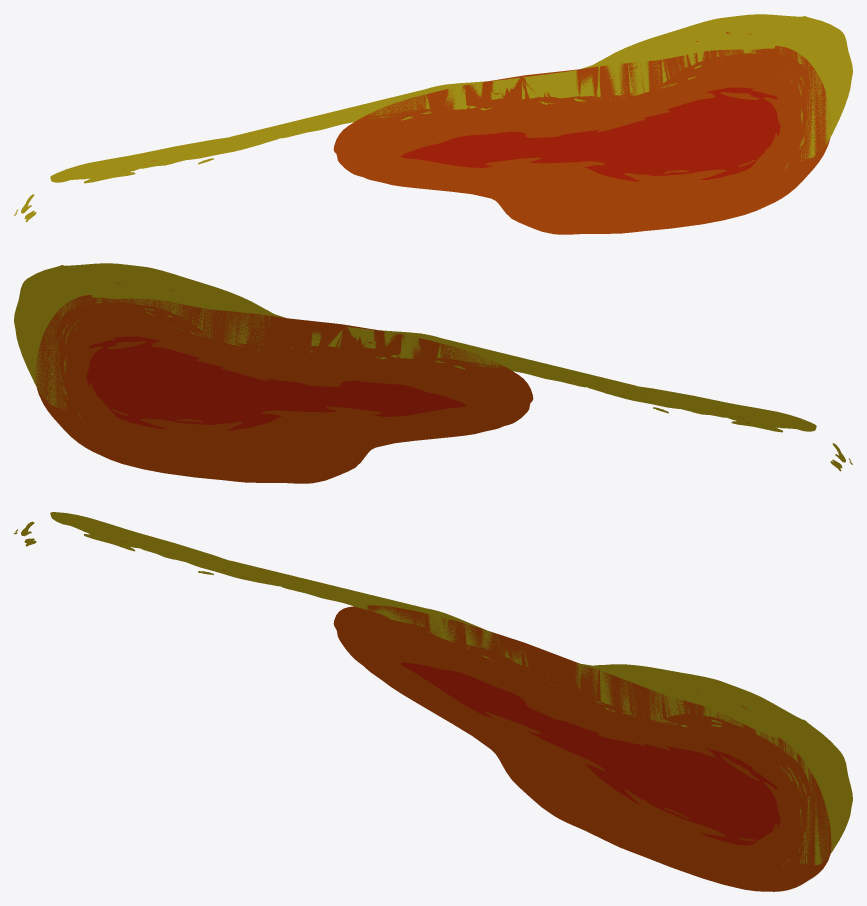
3 renders of one model, top to bottom at view 1: azimuth 30°, elevation 25°; view 2: azimuth 150°, elevation 25°; view 3: azimuth 330°, elevation 25°, orthographic.
Visible parts, largest first — view 1: Mesh_2; view 2: Mesh_2; view 3: Mesh_2.
Part boxes in pixels (x1=…): Mesh_2: x1=14, y1=14, x2=852, y2=234; Mesh_2: x1=14, y1=263, x2=852, y2=483; Mesh_2: x1=14, y1=512, x2=852, y2=891.
Size of the model in its own units: 1338 by 323 by 0.
